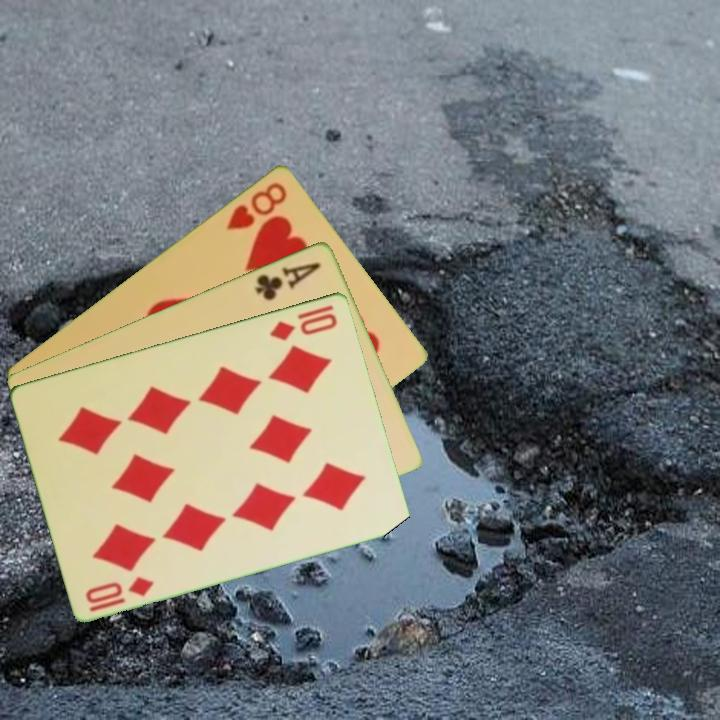10d: (266, 300, 341, 343), (82, 572, 157, 614)
8h: (223, 178, 290, 233)
Ac: (251, 258, 325, 303)
